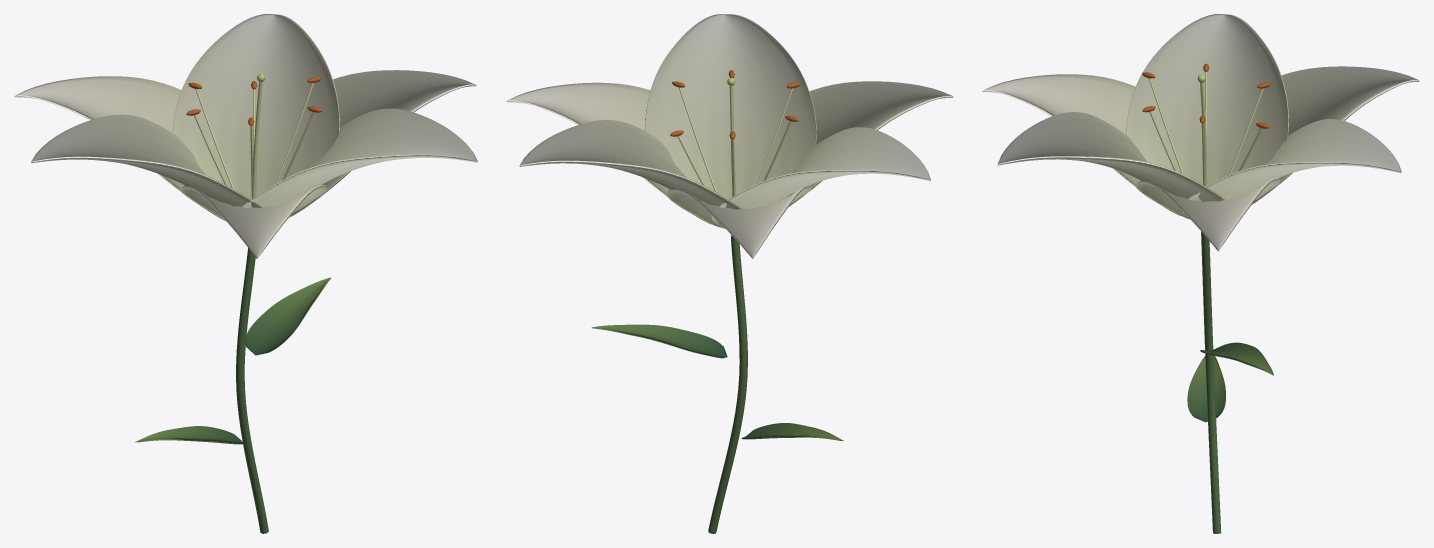
File: lily.glb
The picture shows the model from 3 angles, left to right: view 1: azimuth 30°, elevation 25°; view 2: azimuth 150°, elevation 25°; view 3: azimuth 270°, elevation 25°; orthographic projection. The views are drawn at different scales.
Visible parts, largest first — view 1: 百合 (×10); view 2: 百合 (×10); view 3: 百合 (×10).
Part boxes in pixels (x1,y1,x2,y2): 百合 (×10): (14,14,477,533); 百合 (×10): (506,14,953,533); 百合 (×10): (982,14,1419,533).
Bounding box in the file's own units: 1.03 × 1.04 × 0.9083.
